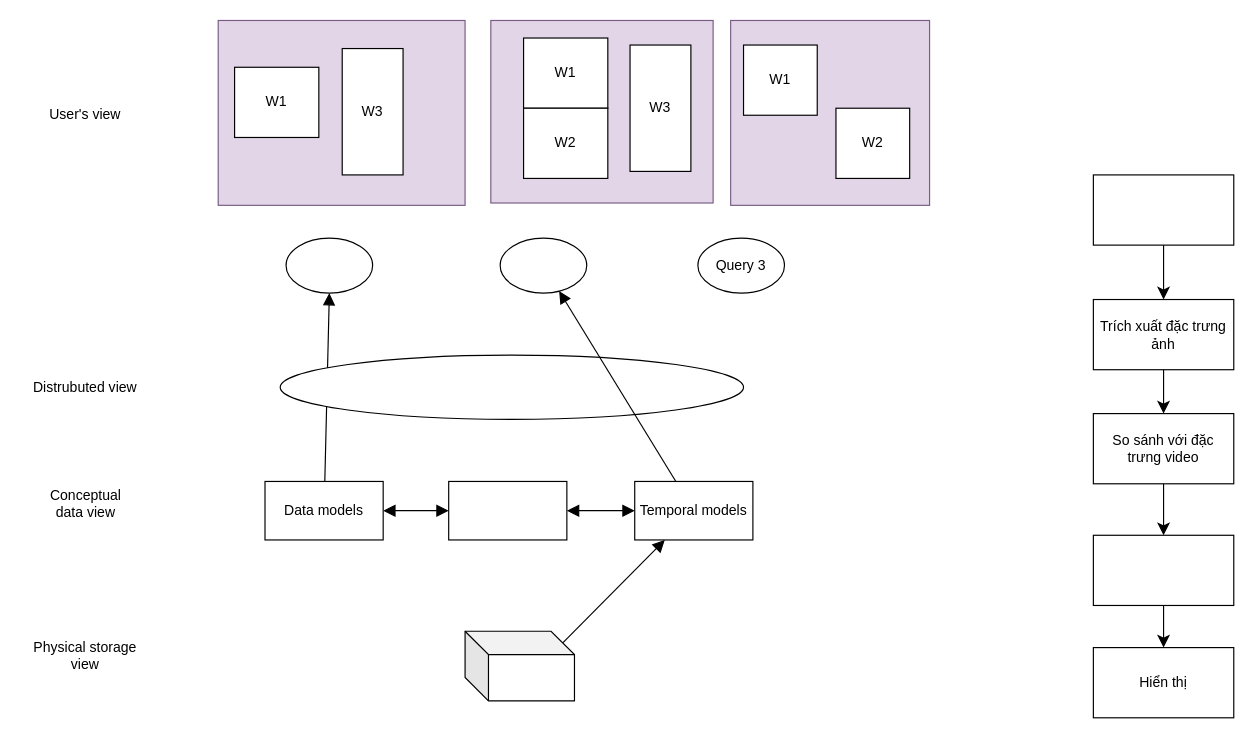
This 1254x738 diagram has some shape labels left out. Each missing label, with the centre of its shape:
"Chọn 3 video giống nhất" goes at pixel 1163 569.
"Communication network" goes at pixel 511 386.
"Data access" goes at pixel 507 510.
"Query 1" goes at pixel 329 265.
"Query 2" goes at pixel 543 265.
"Video" goes at pixel 519 665.
"Ảnh dầu vào" goes at pixel 1163 209.
